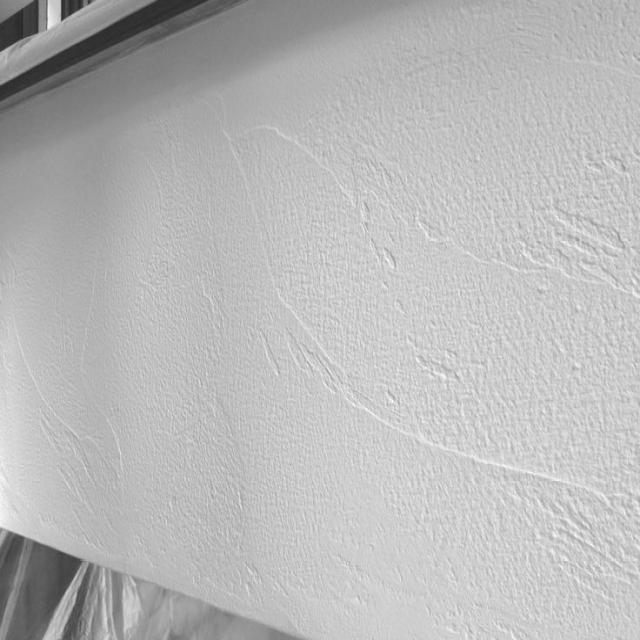trowels marks: (4, 88, 640, 640), (361, 0, 640, 82)
